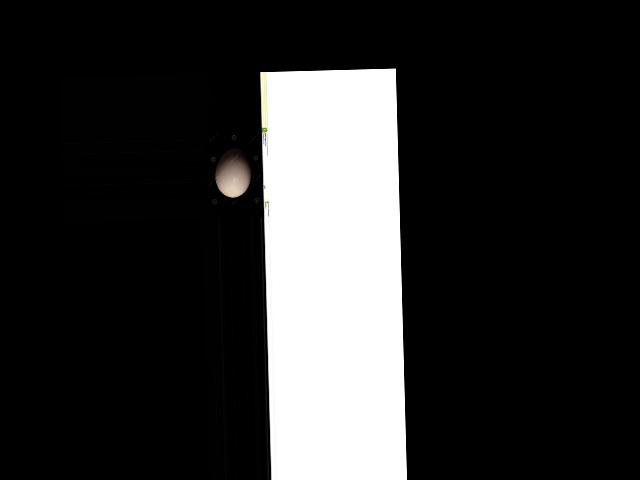egg: (214, 148, 252, 198)
